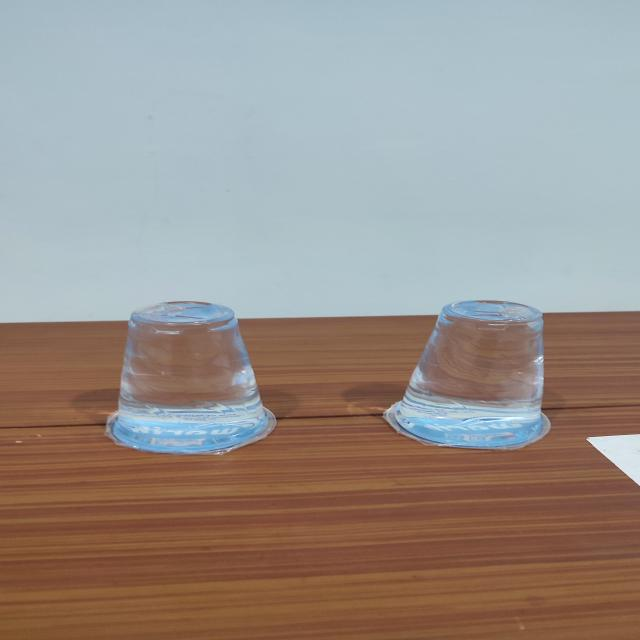air gelas: (93, 294, 288, 462), (383, 293, 571, 441)
